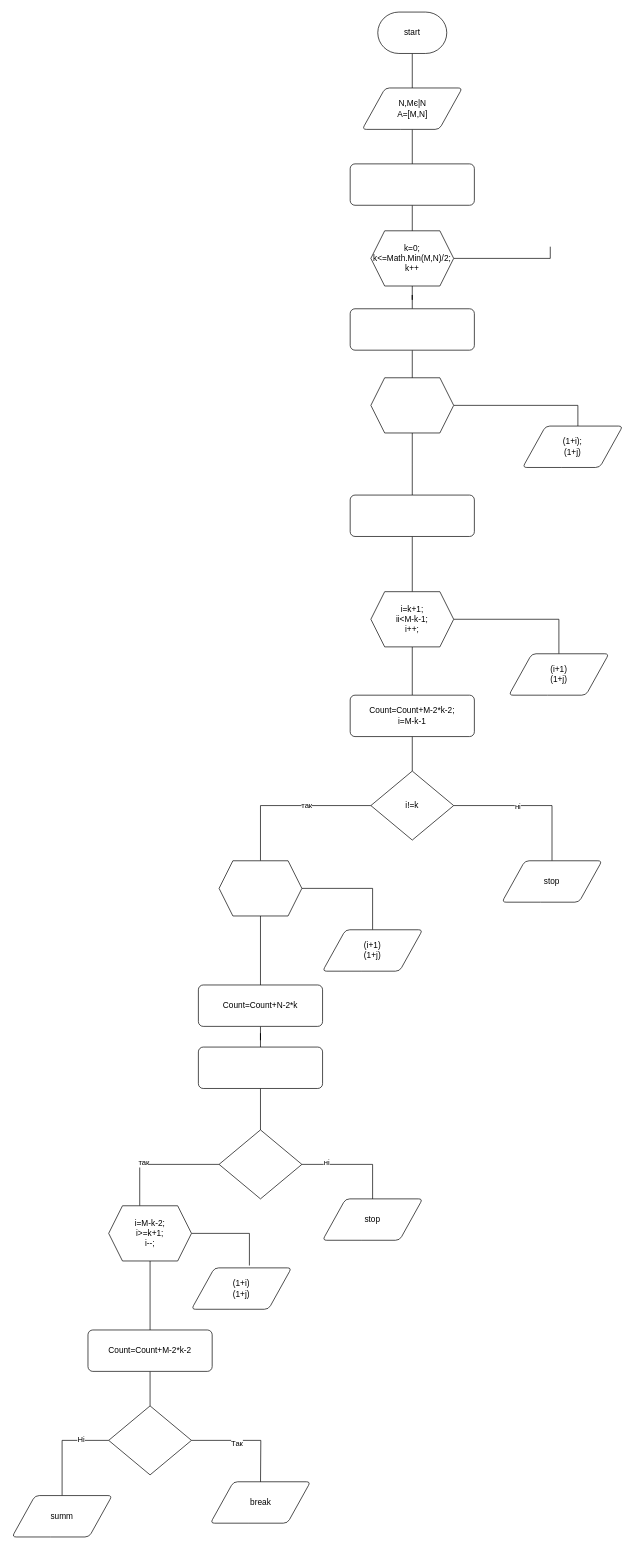
The diagram is 635 pixels wide and 1549 high, and some of its shapes have lost their labels. Each missing label, with the centre of its shape:
Count==M*N: [149,1440]
Count=Count+N-2*k j=k;: [411,515]
i,j,Count=0: [411,184]
i=k: [411,329]
j!=k: [260,1164]
j=k; j<N-k; J++;: [260,888]
j=N-k-1;: [260,1067]
j=N-k-1; j>=k; j--;: [412,405]
